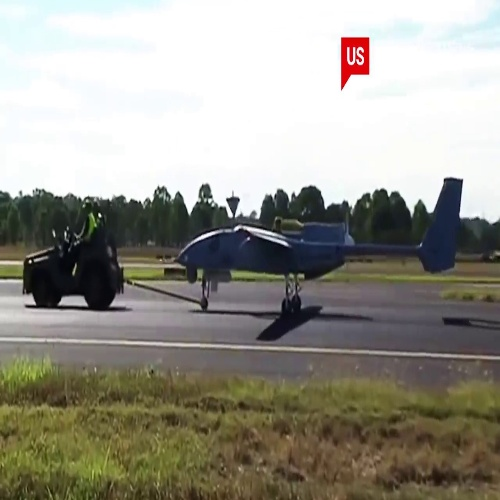uav: (170, 176, 475, 325)
